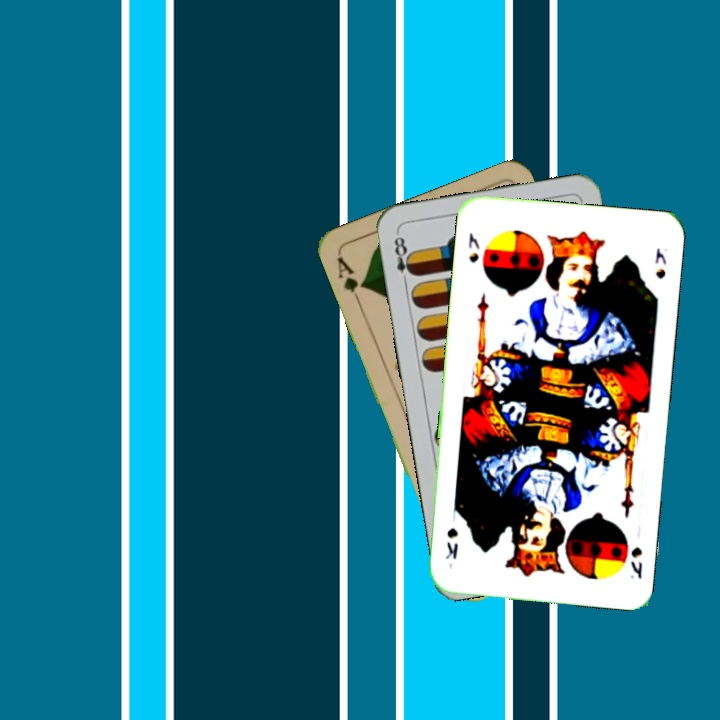E8: (389, 229, 418, 288)
GA: (333, 253, 368, 308)
SK: (626, 543, 645, 582), (464, 229, 482, 266)
